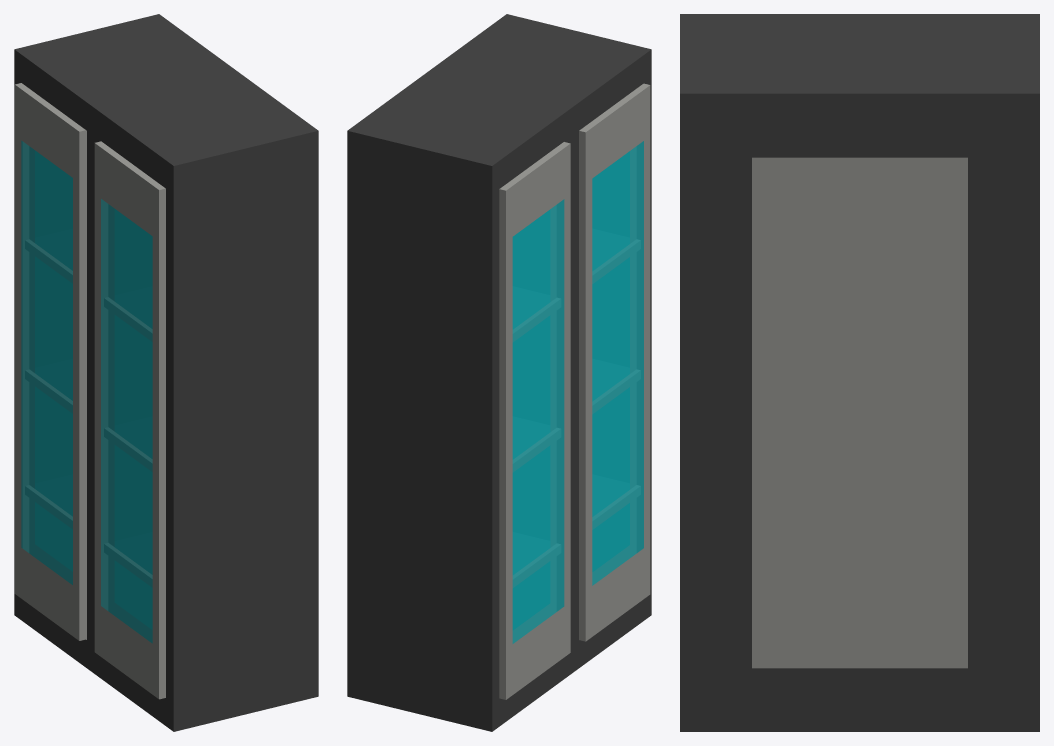
Rendered from Refridgerator.fbx.
3 views of the same model, side by side, from view 1: azimuth 30°, elevation 25°; view 2: azimuth 150°, elevation 25°; view 3: azimuth 270°, elevation 25° (orthographic). The views are drawn at different scales.
Visible parts, largest first — view 1: Refridgerator, Bar Straight.002, Bar Straight.001; view 2: Refridgerator, Bar Straight.001, Bar Straight.002; view 3: Refridgerator.
Part boxes in pixels (x1=…): Refridgerator: x1=14, y1=14, x2=318, y2=731; Bar Straight.002: x1=14, y1=83, x2=86, y2=640; Bar Straight.001: x1=94, y1=141, x2=165, y2=699; Refridgerator: x1=347, y1=14, x2=651, y2=731; Bar Straight.001: x1=579, y1=83, x2=650, y2=641; Bar Straight.002: x1=499, y1=142, x2=570, y2=699; Refridgerator: x1=680, y1=14, x2=1039, y2=731.
Bounding box in the file's own units: 1097 × 3915 × 2000.
